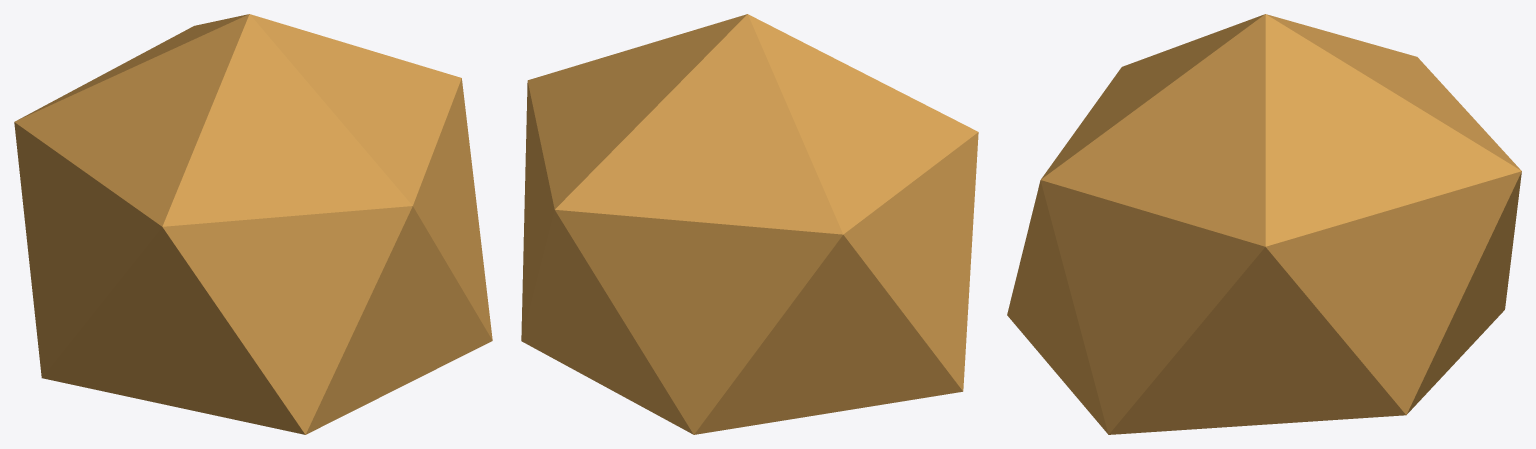
Rendered from crumb.glb.
3 renders of one model, left to right at view 1: azimuth 30°, elevation 25°; view 2: azimuth 150°, elevation 25°; view 3: azimuth 270°, elevation 25°, orthographic. The views are drawn at different scales.
Visible parts, largest first — view 1: Uneven bread crumb; view 2: Uneven bread crumb; view 3: Uneven bread crumb.
Boxes of the visible parts, x1,y1,x2,y2 form: Uneven bread crumb: (14,14,492,434); Uneven bread crumb: (521,14,978,434); Uneven bread crumb: (1007,14,1521,434).
Size of the model in its own units: 0.005 by 0.004 by 0.005.
